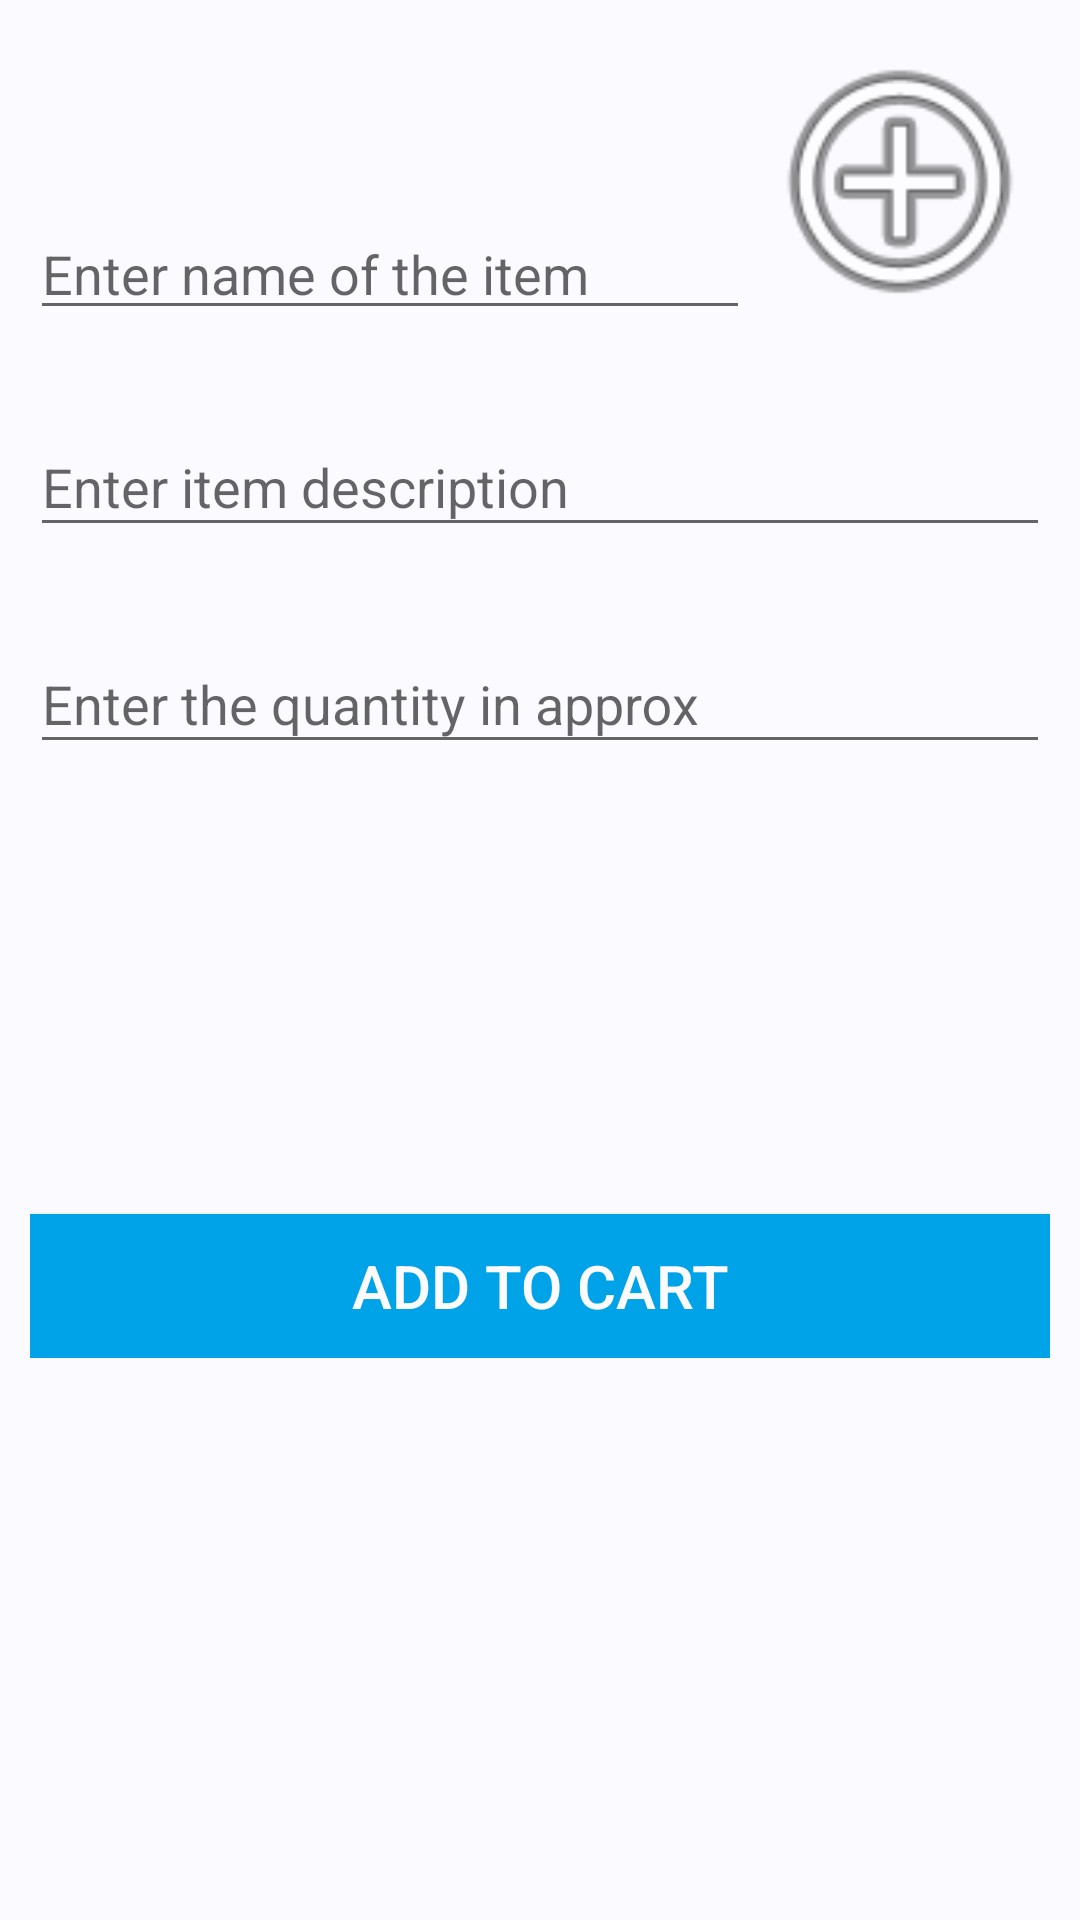

Where to tap for icons on this 1080px x 1920px app screen, as (x=x, y=y):
add: (x=900, y=181)
